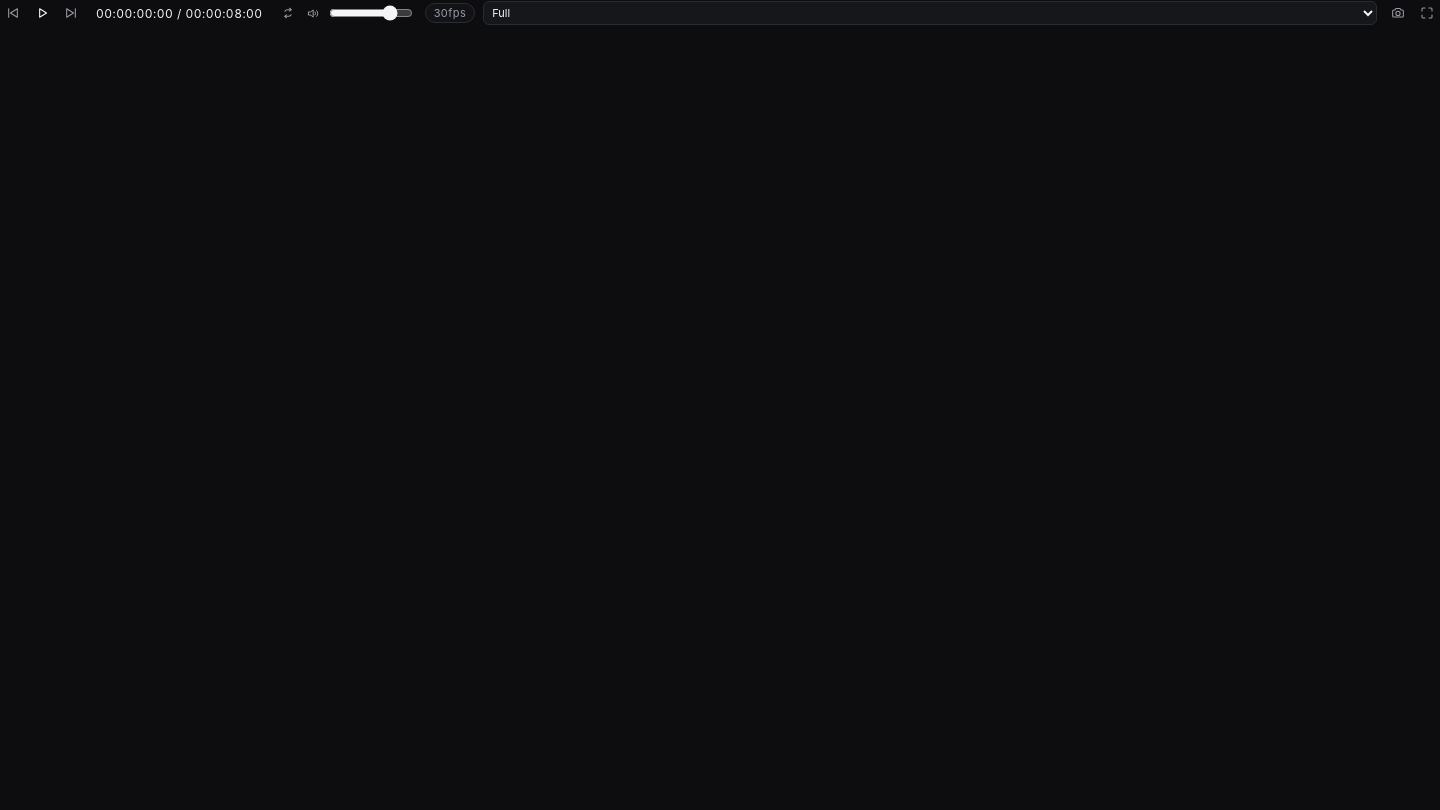
Test: saving the frame under the playhead › writes nothing when the save question is backed out of
Click the button named "Save snapshot". click: (1398, 13)
box: [1385, 0, 1411, 26]
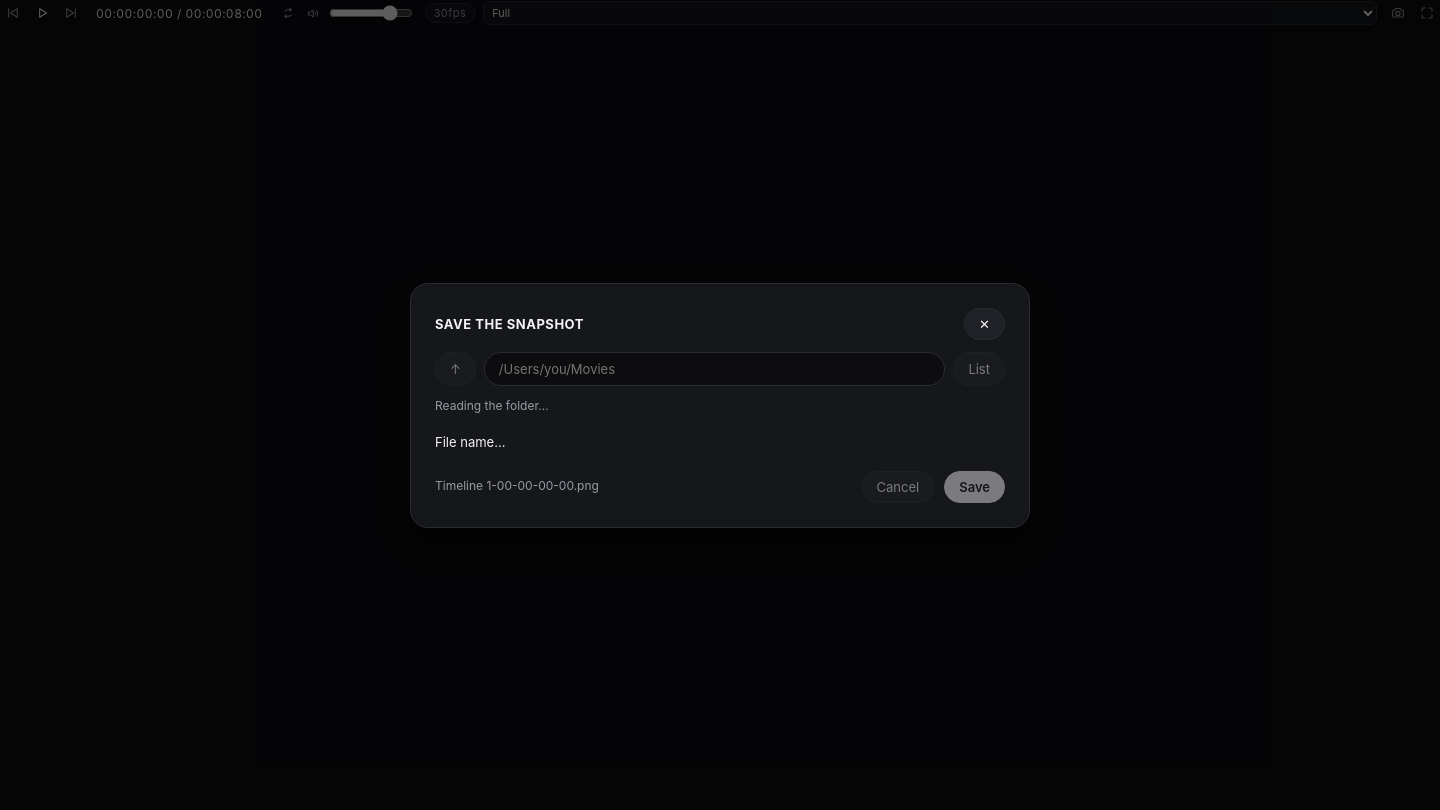
Click the button "✕". click: (985, 324)
box: [964, 308, 1005, 340]
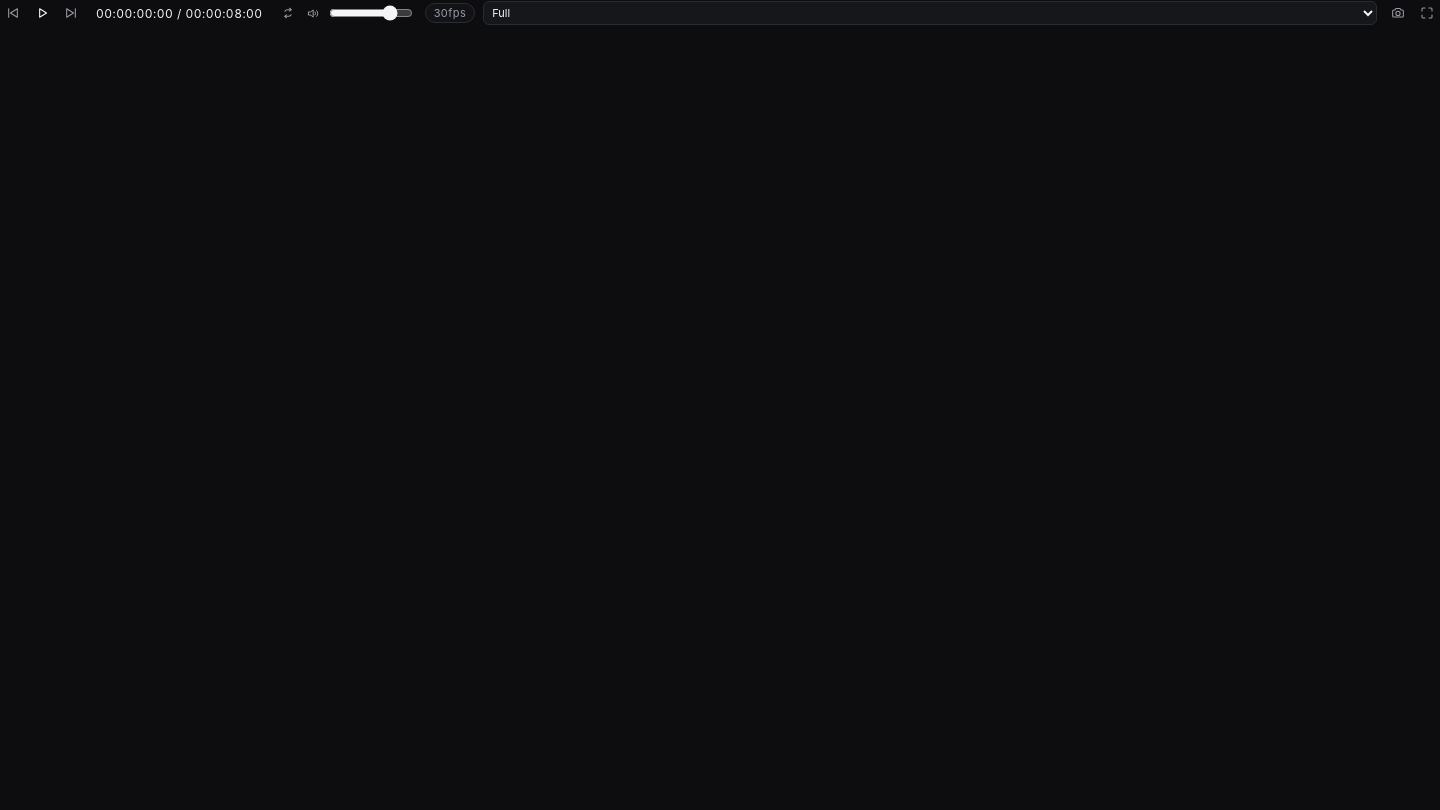
Expected: the dialog with test id "path-browser" is gone
